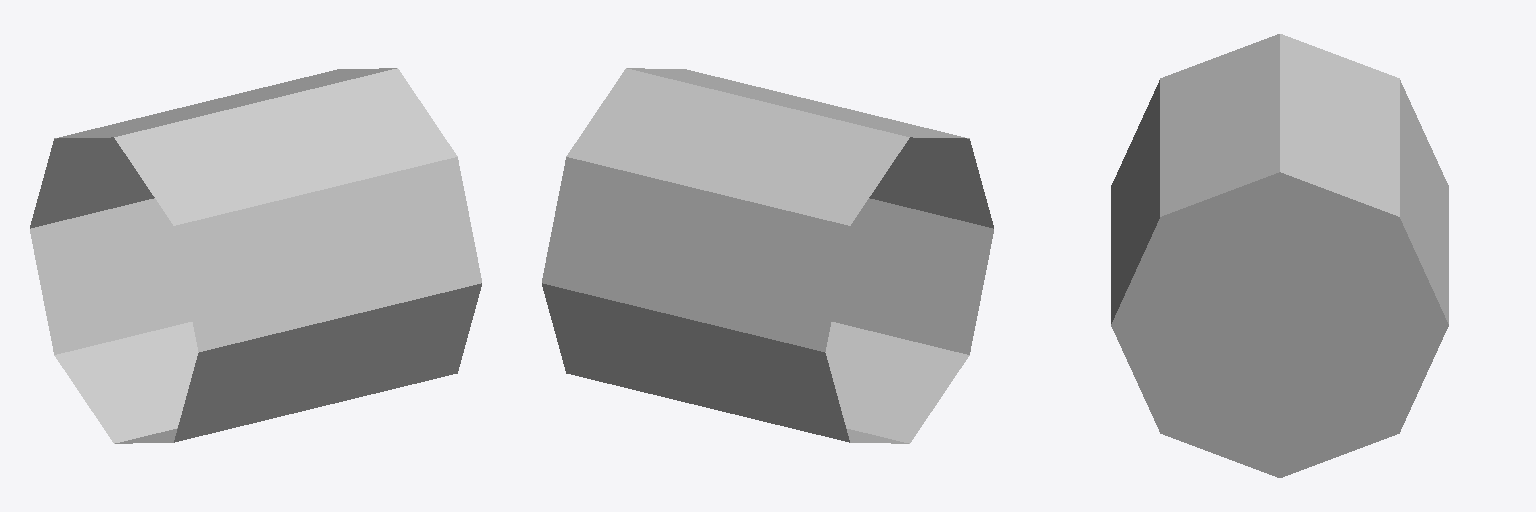
Rendered from WheelFrontL.obj.
3 renders of one model, left to right at view 1: azimuth 30°, elevation 25°; view 2: azimuth 150°, elevation 25°; view 3: azimuth 270°, elevation 25°, orthographic.
Visible parts, largest first — view 1: WheelFrontL; view 2: WheelFrontL; view 3: WheelFrontL.
Boxes of the visible parts, <box> form: WheelFrontL: <box>30,68,481,443</box>; WheelFrontL: <box>542,68,993,443</box>; WheelFrontL: <box>1111,34,1448,477</box>.
Size of the model in its own units: 0.88 by 0.9072 by 0.9072.